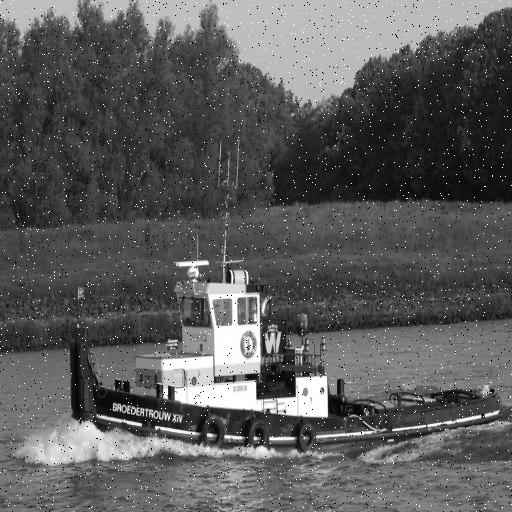tugboat: (63, 135, 512, 477)
